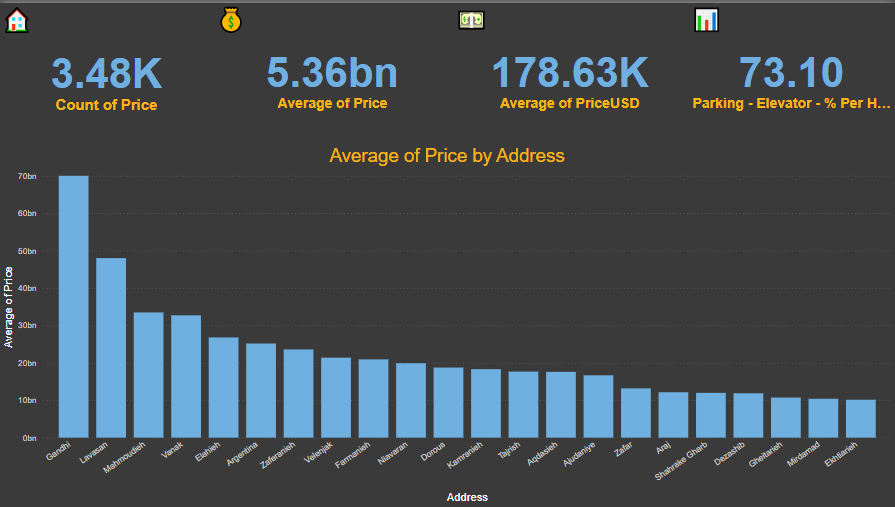

What the dashboard file says about the page in this screenshot:
{"tool":"powerbi","page":{"name":"Overview","canvas":[1280,720],"ordinal":0},"visuals":[{"type":"card","title":"🏠 ","fields":{"Values":["CountNonNull(housePrice-PBI (2).Price)"]},"box":[0,0,307.5,173.3],"z":0},{"type":"card","title":"💰","fields":{"Values":["Avg(housePrice-PBI (2).Price)"]},"box":[307.5,0,339.2,173.3],"z":1},{"type":"card","title":"💵","fields":{"Values":["Avg(housePrice-PBI (2).PriceUSD)"]},"box":[646.7,0,336.8,173.3],"z":2},{"type":"clusteredColumnChart","fields":{"Category":["housePrice-PBI.Address"],"Y":["Avg(housePrice-PBI.Price)"]},"box":[0,203.5,1280,516.3],"z":3},{"type":"card","title":"📊","fields":{"Values":["housePrice-PBI (2).Pct_Parking_Elevator"]},"box":[984,0,296,173],"z":4}]}

Visuals, with their boxes in screenshot pixels (x1, y1, x2, y2), scaled from the page's 1280x720 canvas onto the 895x507 screenshot:
"🏠 " card: box=[0, 0, 215, 122]
"💰" card: box=[215, 0, 452, 122]
"💵" card: box=[452, 0, 688, 122]
clusteredColumnChart - housePrice-PBI.Address x Avg(housePrice-PBI.Price): box=[0, 143, 894, 506]
"📊" card: box=[688, 0, 894, 122]
